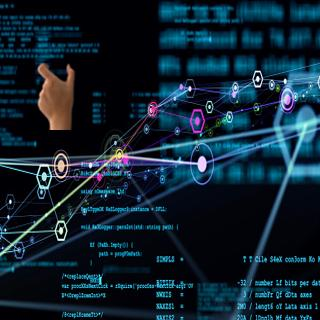HATE: (32, 60, 76, 126)
